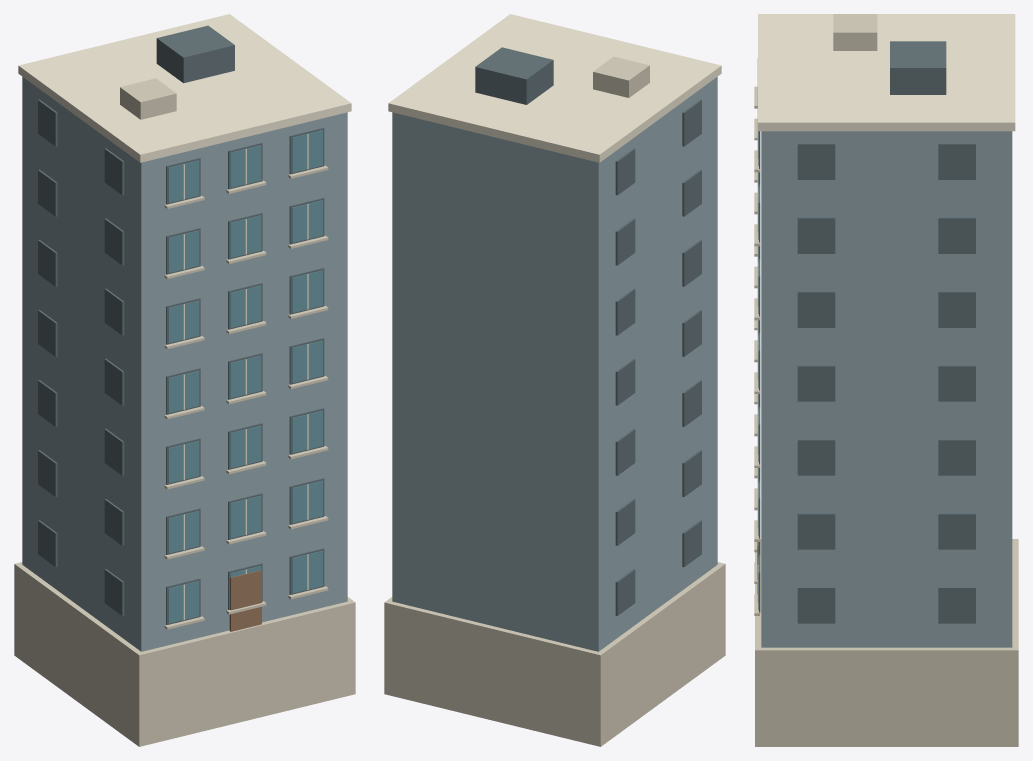
Rendered from tower-1.glb.
The picture shows the model from 3 angles, left to right: view 1: azimuth 30°, elevation 25°; view 2: azimuth 150°, elevation 25°; view 3: azimuth 270°, elevation 25°; orthographic projection. The views are drawn at different scales.
Size of the model in its own units: 8.4 by 22.85 by 8.42.
